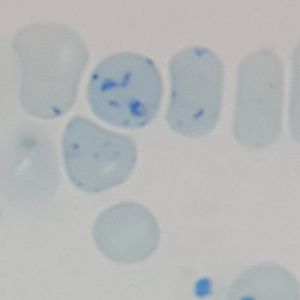aggregate reticulocyte: (84, 50, 166, 131)
erythrocyte: (90, 199, 163, 266)
punctate reticulocyte: (9, 20, 91, 122), (59, 113, 139, 196), (163, 44, 229, 138), (230, 48, 288, 151)
